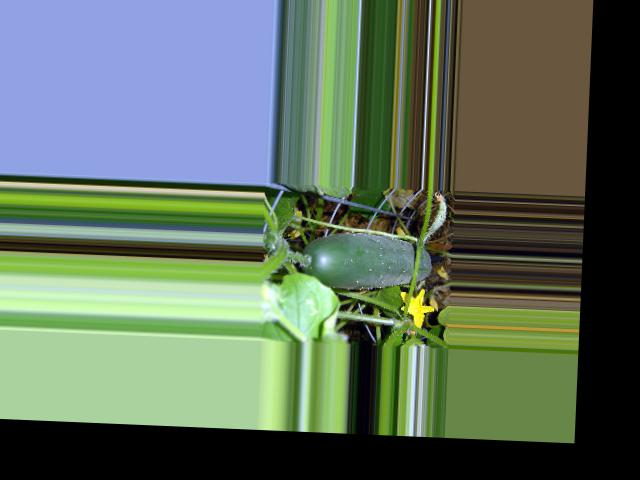cucumber: (300, 229, 432, 291)
